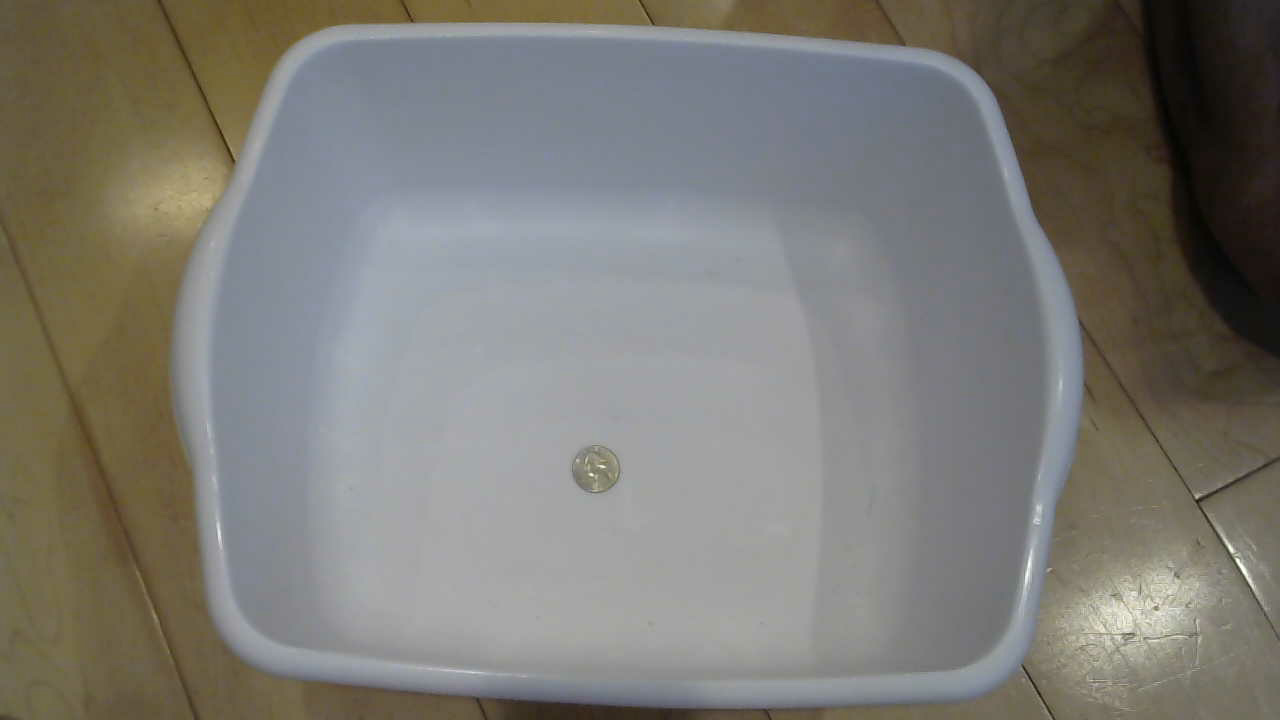coin: (566, 445, 631, 504)
